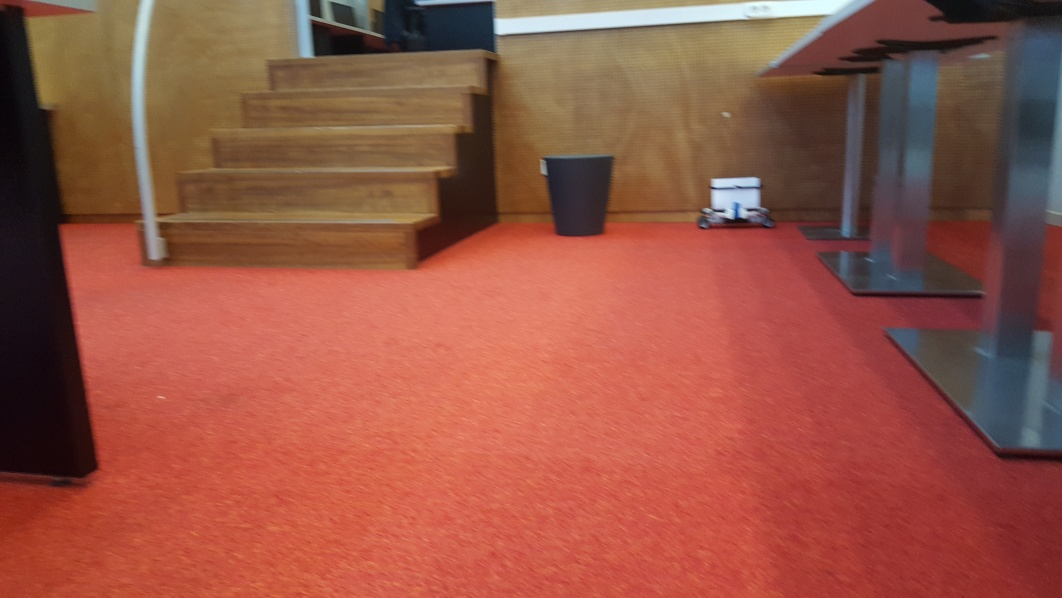car: (697, 177, 775, 232)
